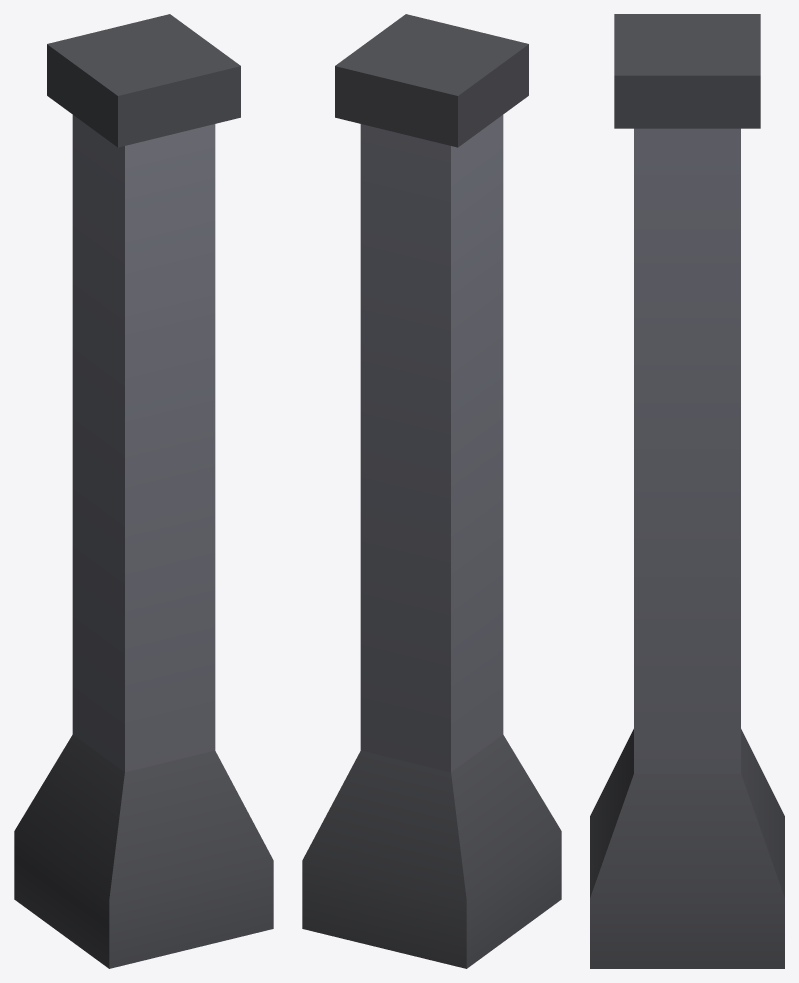
Rendered from bridge_pillar.glb.
The picture shows the model from 3 angles, left to right: view 1: azimuth 30°, elevation 25°; view 2: azimuth 150°, elevation 25°; view 3: azimuth 270°, elevation 25°; orthographic projection. The views are drawn at different scales.
Parts seen in each view (by area): view 1: bridge-pillar; view 2: bridge-pillar; view 3: bridge-pillar.
Boxes of the visible parts, x1=… form: bridge-pillar: x1=14, y1=14, x2=273, y2=968; bridge-pillar: x1=302, y1=14, x2=561, y2=968; bridge-pillar: x1=590, y1=14, x2=784, y2=968.
Bounding box in the file's own units: 0.8 × 4 × 0.8.
Materials: 1 (1 with a texture image).
